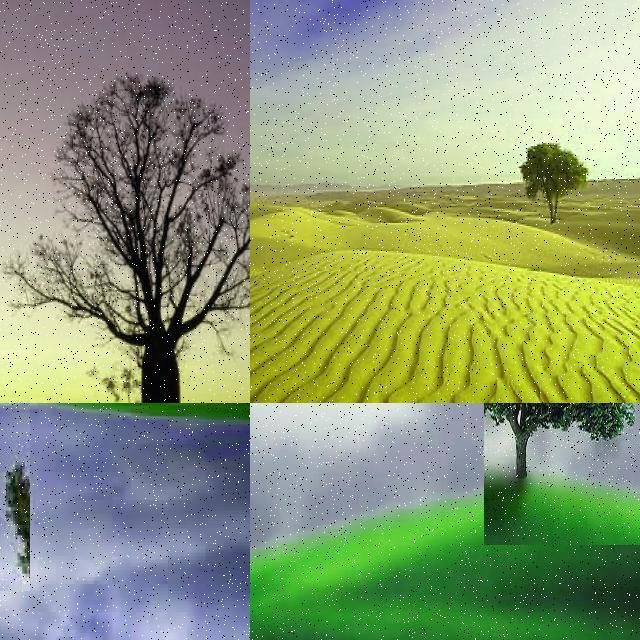tree: (10, 44, 250, 403), (484, 403, 640, 545), (524, 125, 594, 232), (0, 403, 30, 591)
